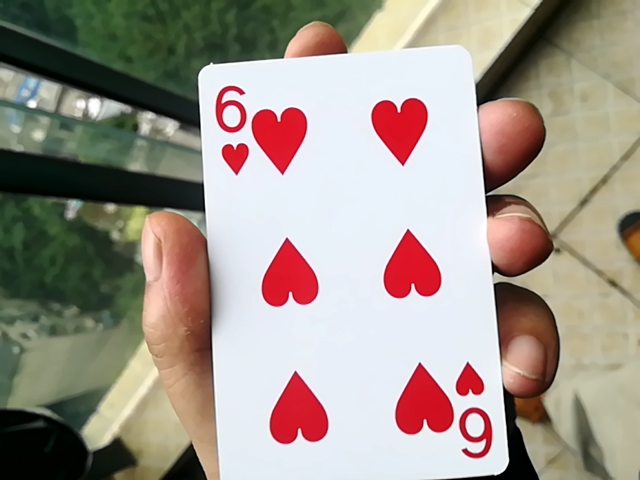hx 6: (184, 45, 513, 478)
